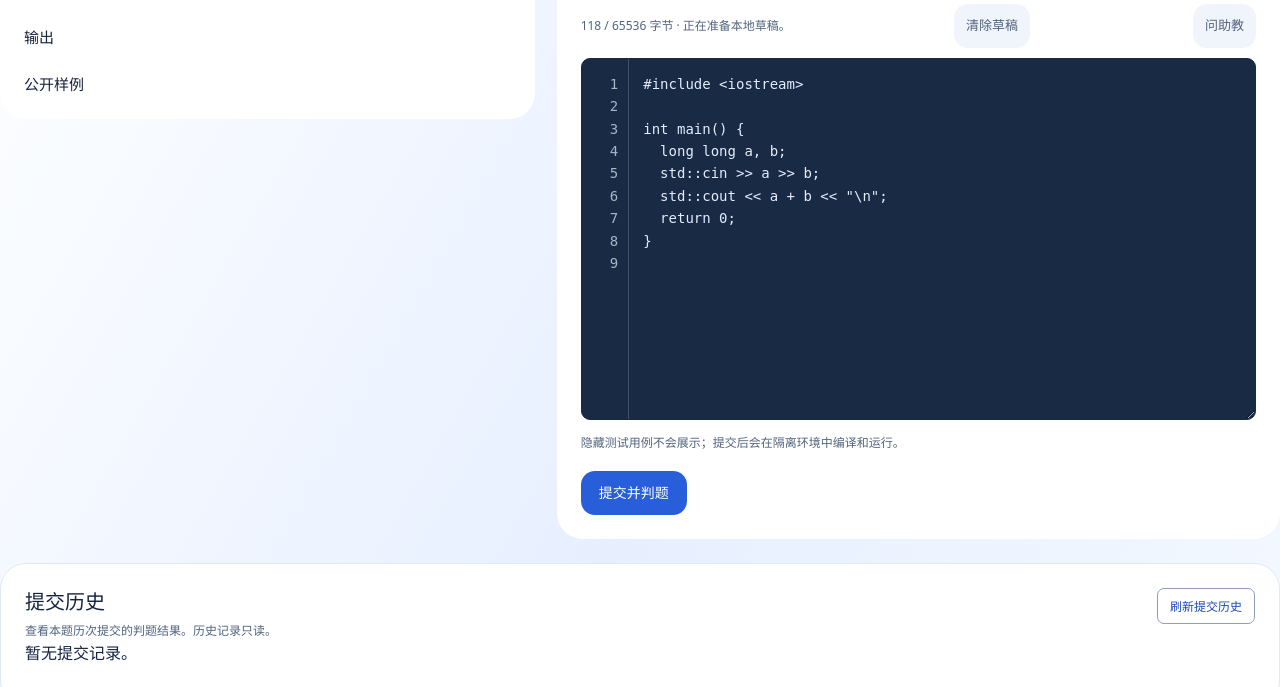
Scenario: 提交被截止或状态规则拒绝时给出明确提示，不保存提交记录
(page scrolled)
Click the button with class "submit-button". click: (634, 493)
box: x1=581 y1=471 x2=687 y2=515
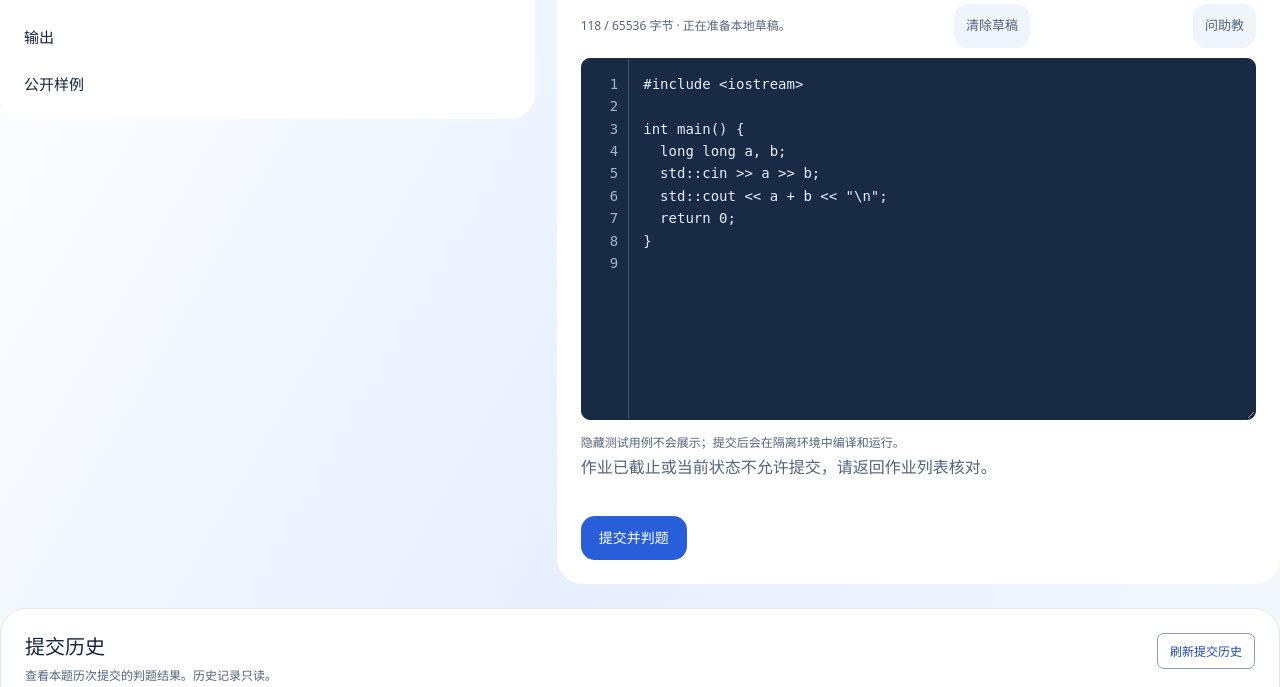
Expected: the message "作业已截止或当前状态不允许提交，请返回作业列表核对。" is shown, x1=581 y1=456 x2=997 y2=478
